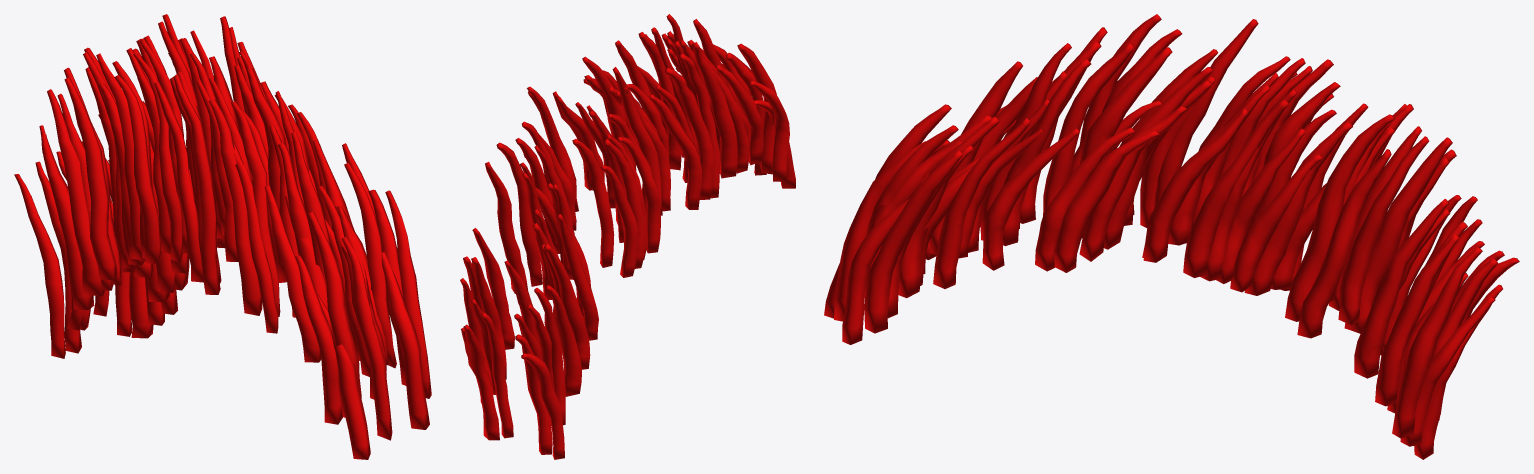
Rendered from mohawk.fbx.
The picture shows the model from 3 angles, left to right: view 1: azimuth 30°, elevation 25°; view 2: azimuth 150°, elevation 25°; view 3: azimuth 270°, elevation 25°; orthographic projection. The views are drawn at different scales.
Parts seen in each view (by area): view 1: Sphere; view 2: Sphere; view 3: Sphere.
Boxes of the visible parts, <box> form: Sphere: <box>14,14,431,459</box>; Sphere: <box>460,14,795,459</box>; Sphere: <box>824,14,1519,459</box>.
Bounding box in the file's own units: 22.62 × 60.97 × 94.78.
